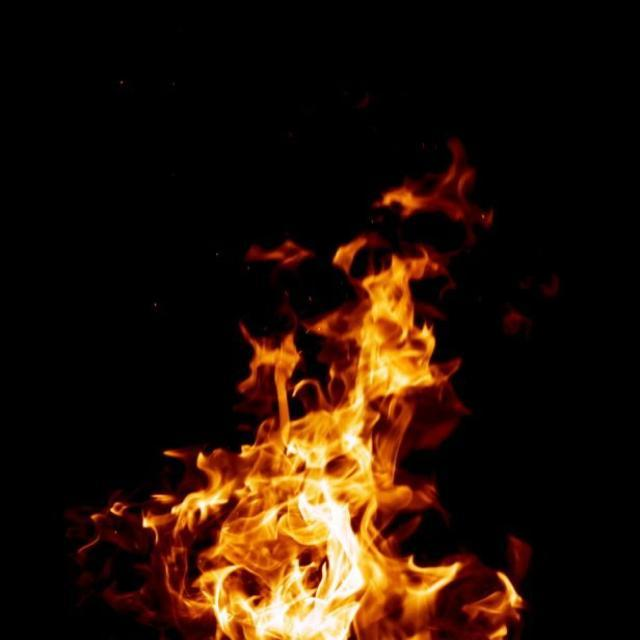Fire: (102, 136, 534, 640)
